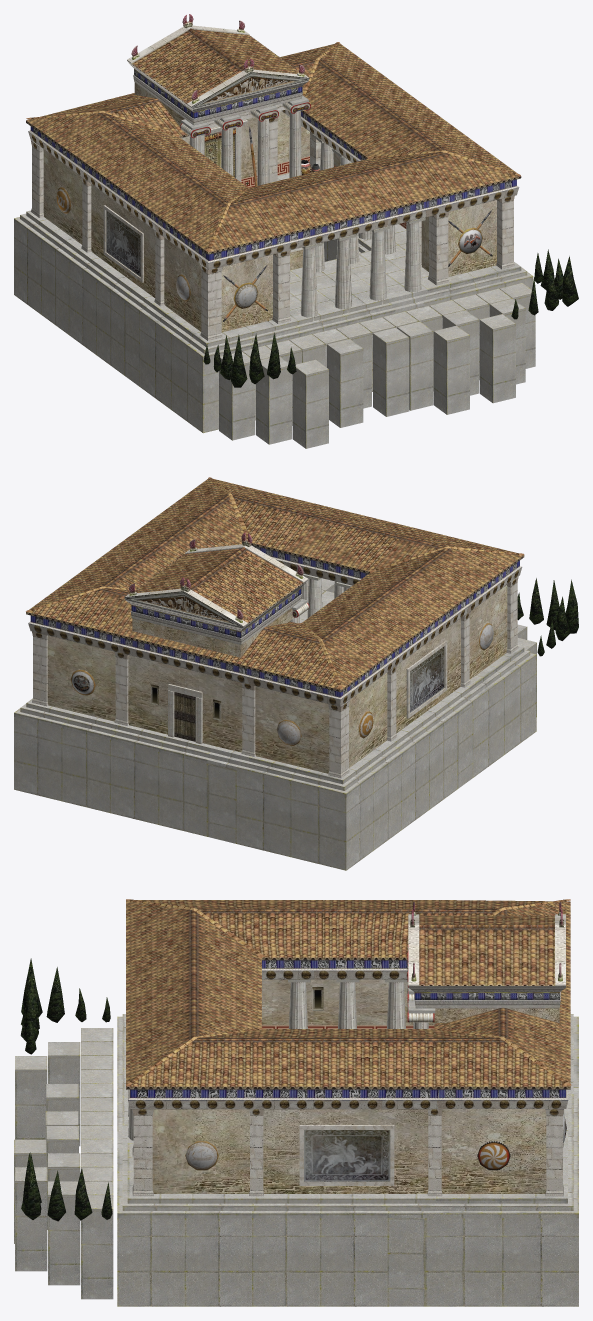
Rendered from gymnasium.glb.
3 renders of one model, top to bottom at view 1: azimuth 30°, elevation 25°; view 2: azimuth 150°, elevation 25°; view 3: azimuth 270°, elevation 25°, orthographic. The views are drawn at different scales.
Size of the model in its own units: 0.7058 by 0.4783 by 0.8186.
6 materials, 6 textured.
